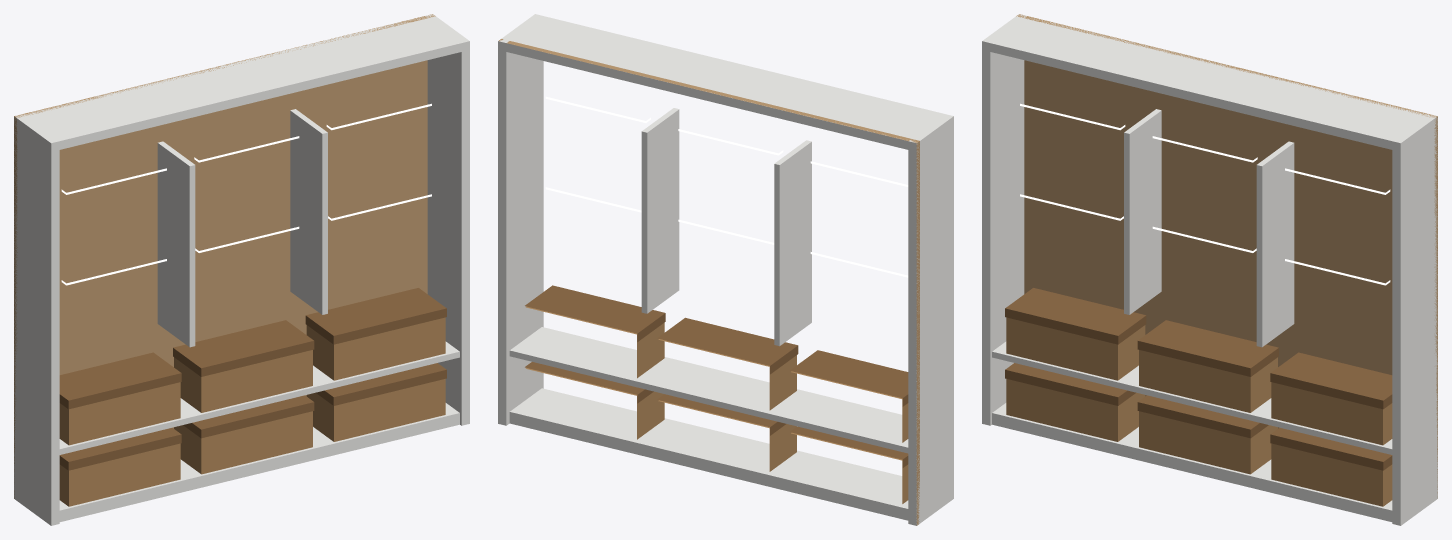
The model's file is bay.glb.
3 renders of one model, left to right at view 1: azimuth 30°, elevation 25°; view 2: azimuth 150°, elevation 25°; view 3: azimuth 330°, elevation 25°, orthographic.
Parts seen in each view (by area): view 1: bay; view 2: bay; view 3: bay.
Boxes of the visible parts, x1,y1,x2,y2 form: bay: (14,14,469,525); bay: (498,14,953,525); bay: (982,14,1437,525).
Size of the model in its own units: 3 by 2.62 by 0.46.
